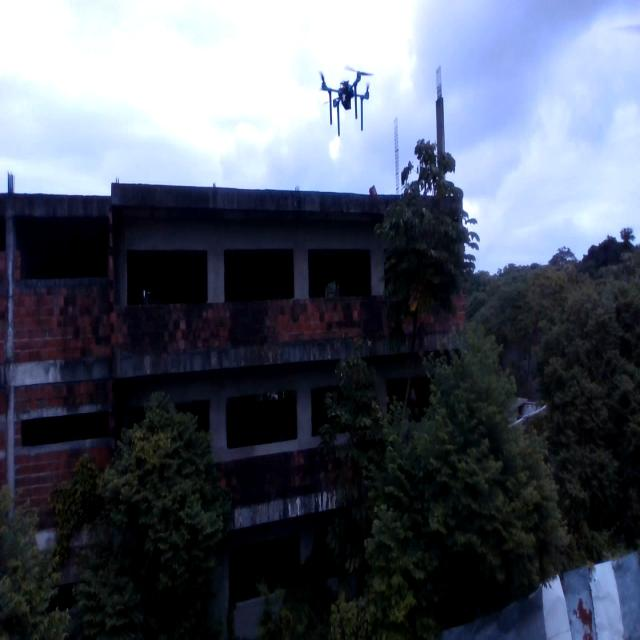-uav-: (312, 62, 382, 151)
